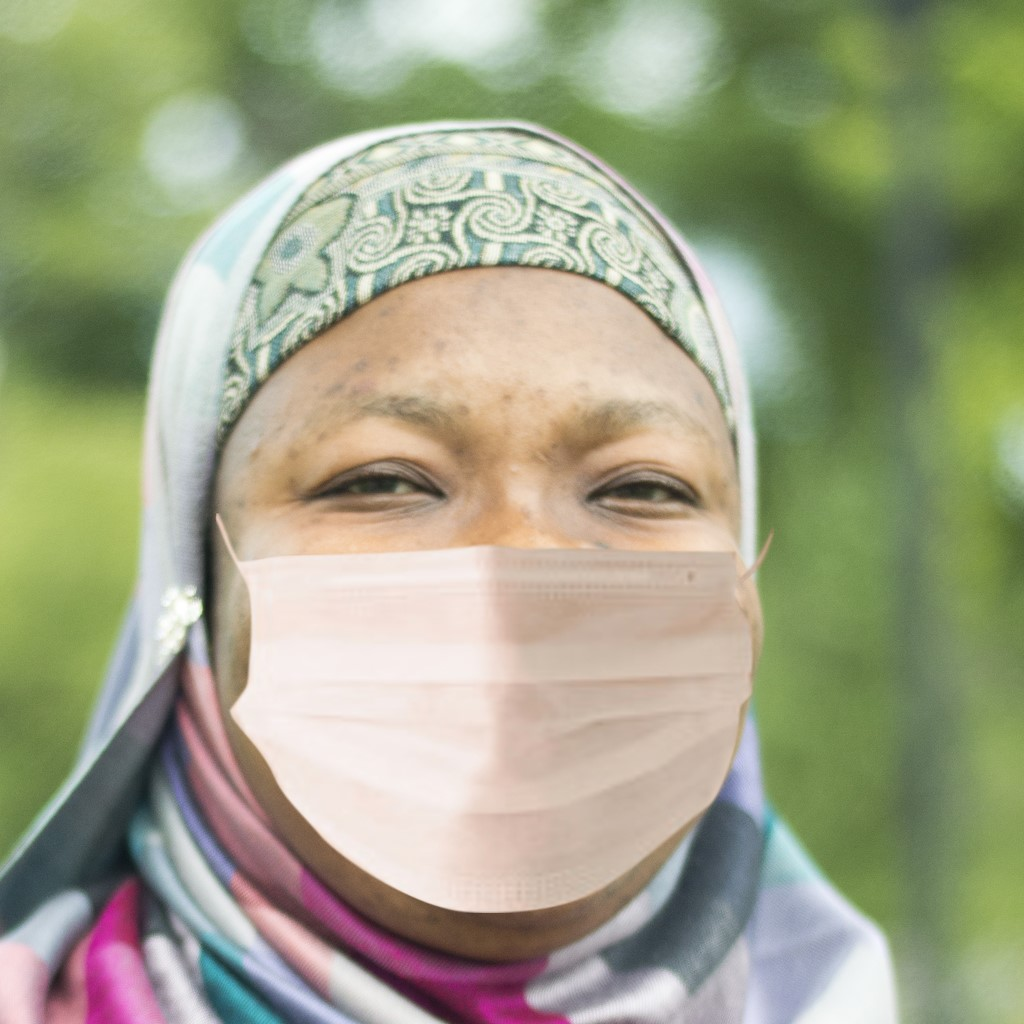con_mascara: (211, 162, 742, 944)
